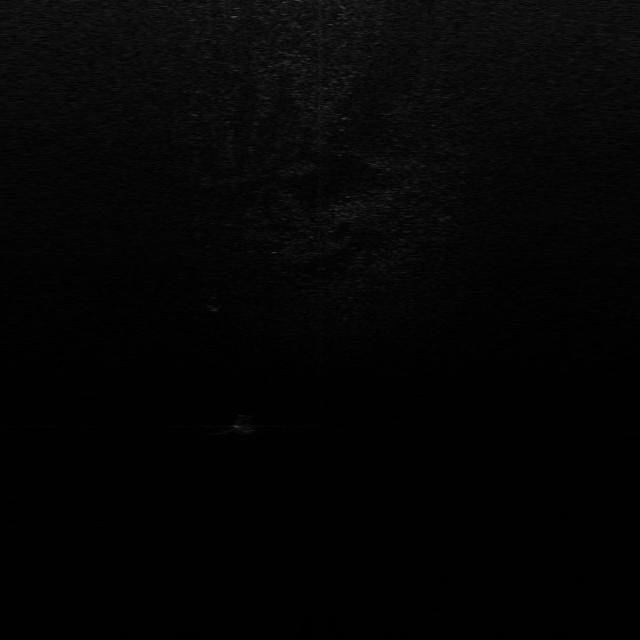ball: (226, 415, 258, 435)
circle cage: (204, 294, 230, 314)
